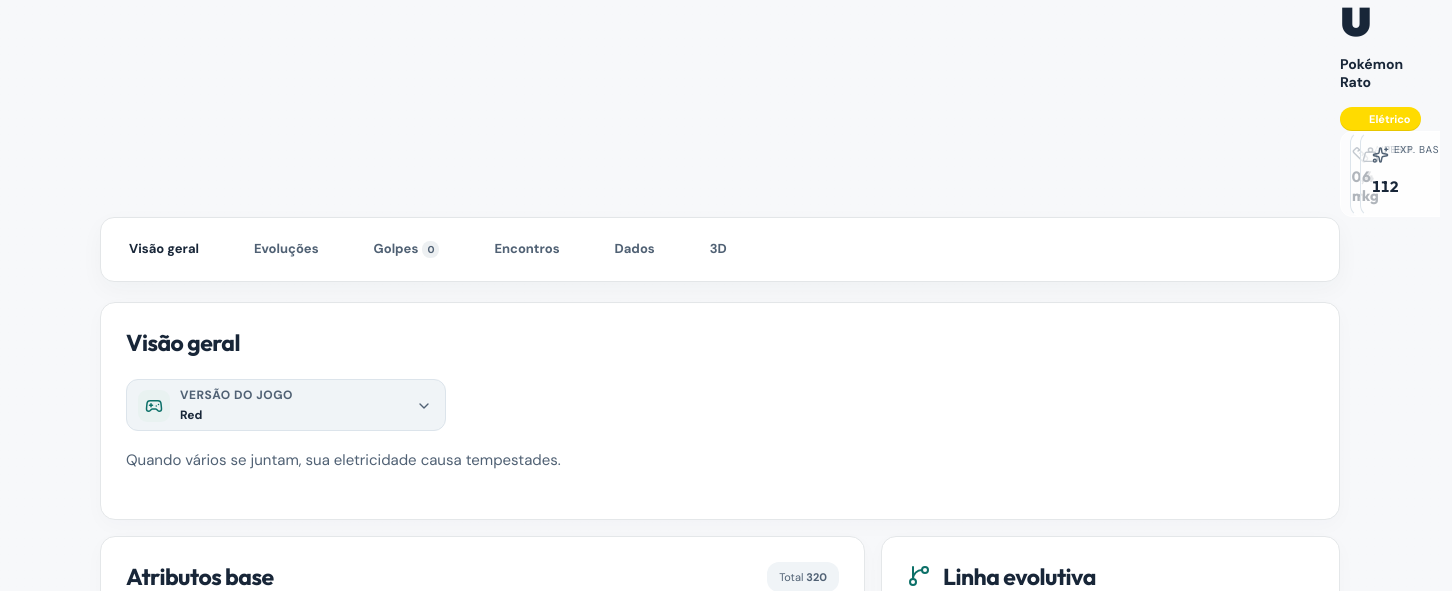
Test case: PokemonDetailPage › switches descriptions by game while keeping language fallback within the selected version
The image size is (1452, 591).
(page scrolled)
Expected: the text "Quando vários se juntam, sua eletricidade causa tempestades." is shown, [126,450,561,470]
Click the dropdown labelled "Versão do jogo".
click(286, 405)  # box [126,379,446,431]
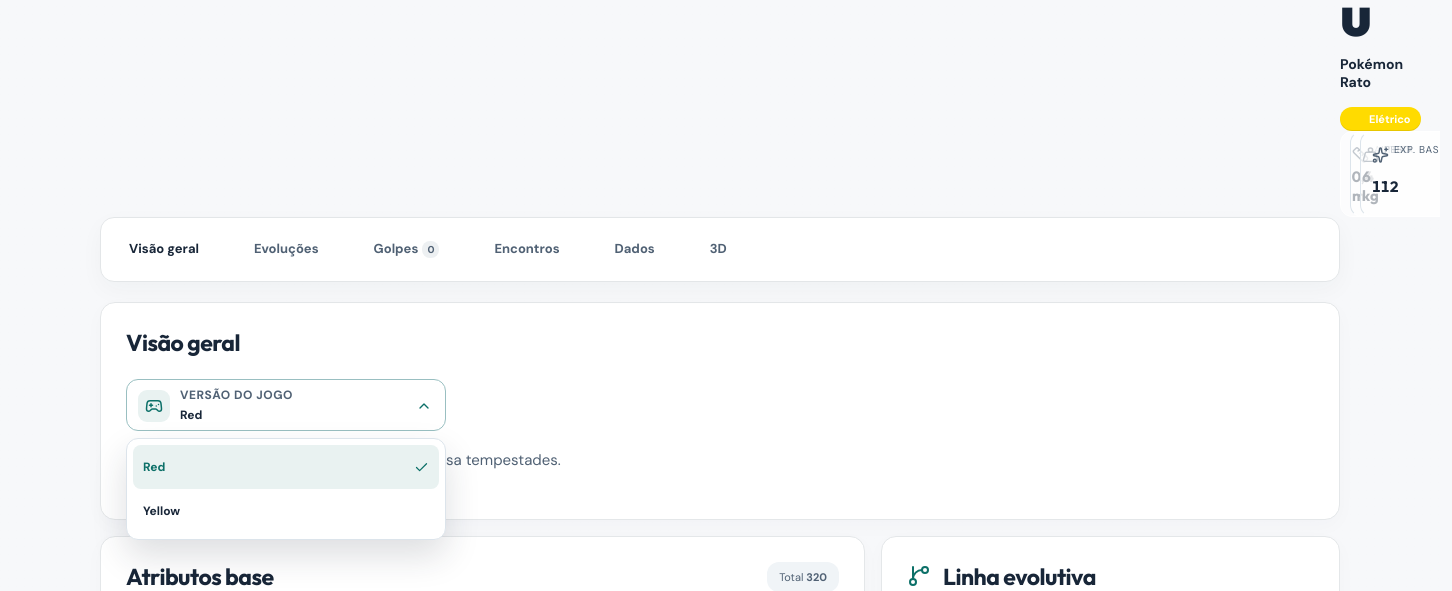
Result: the number of options is 2
Click the option "Yellow".
click(162, 511)  # box [133,489,439,533]
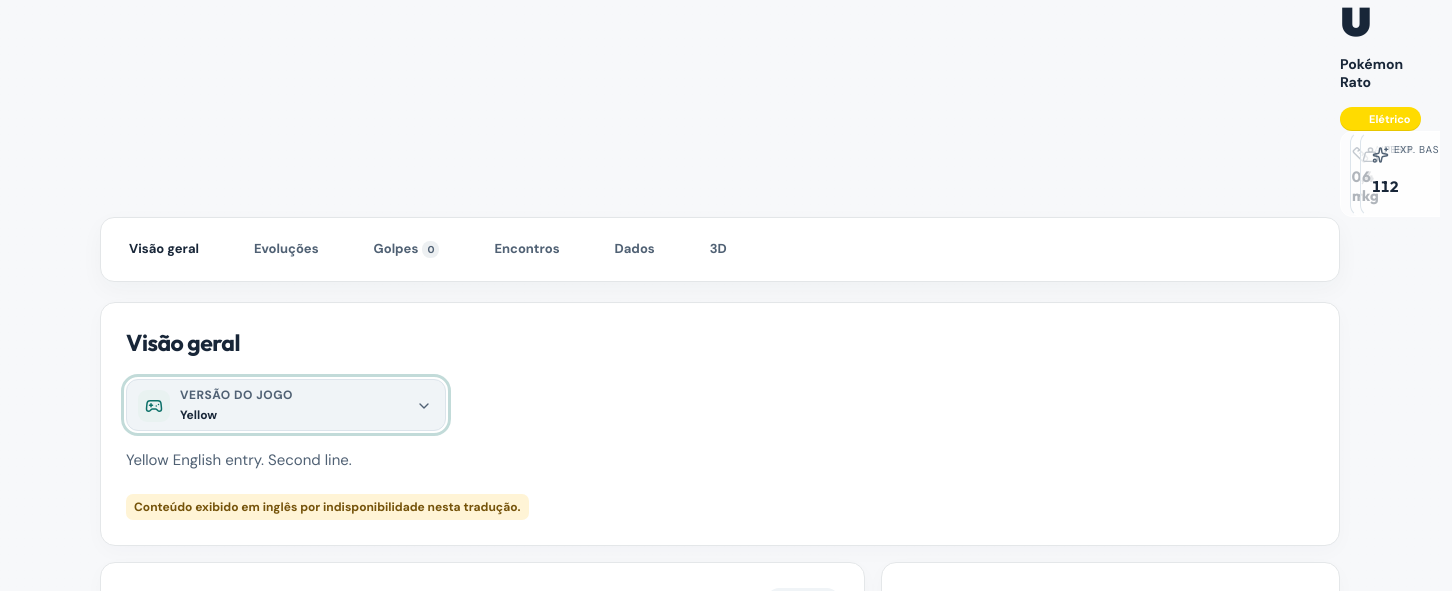
Result: the text "Conteúdo exibido em inglês" is shown at [134,498,520,514]
Result: the text "Quando vários se juntam, sua eletricidade causa tempestades." is gone
Press ArrowDown in the dropdown labelled "Versão do jogo", box [126,379,446,431]
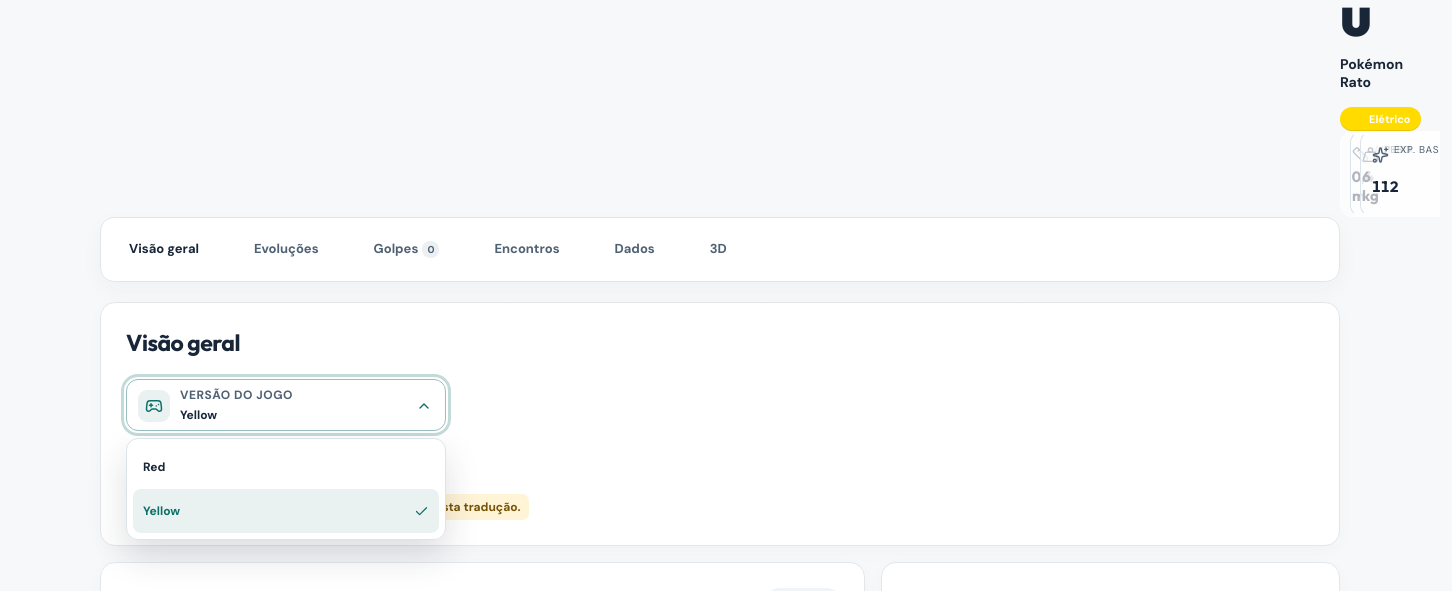
Click the option "Red".
click(154, 467)  # box [133,445,439,489]
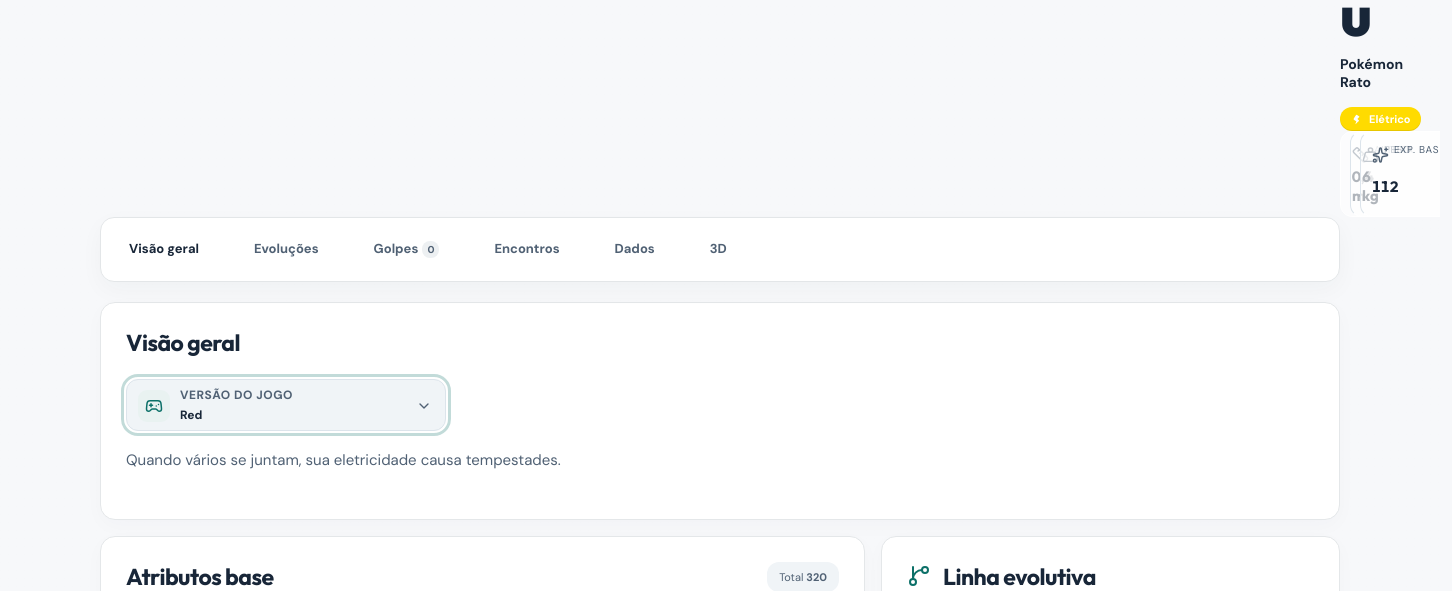
Result: the text "Conteúdo exibido em inglês" is gone
